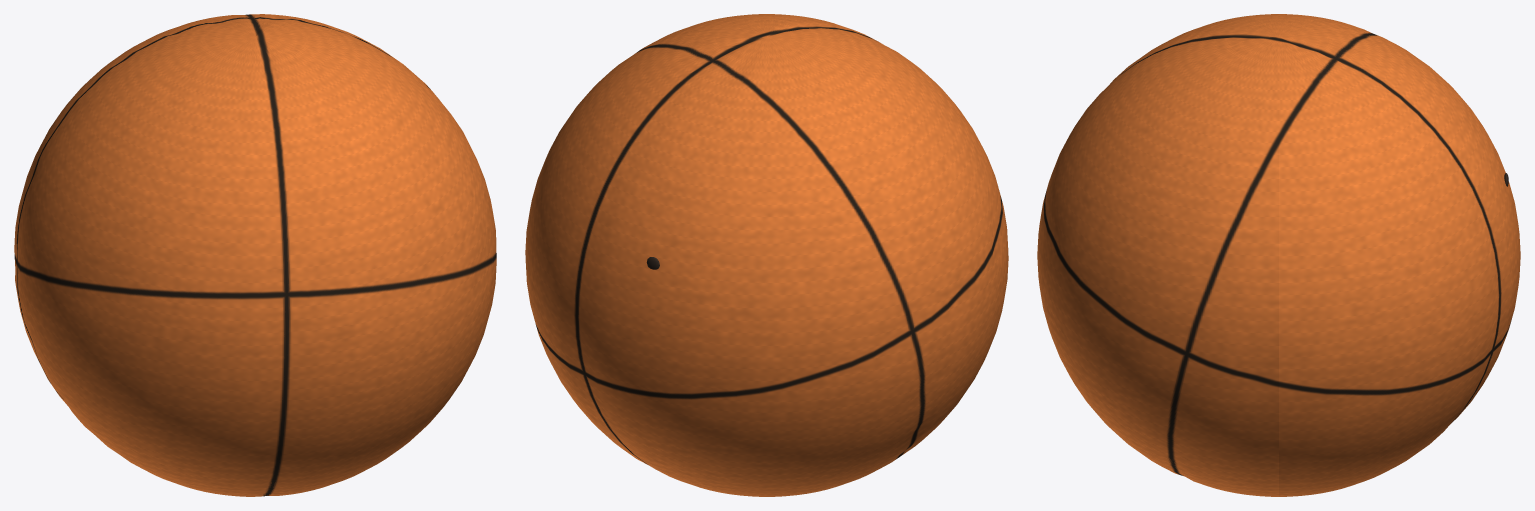
The model's file is hoop_ball.glb.
3 renders of one model, left to right at view 1: azimuth 30°, elevation 25°; view 2: azimuth 150°, elevation 25°; view 3: azimuth 270°, elevation 25°, orthographic.
Visible parts, largest first — view 1: Ball; view 2: Ball; view 3: Ball.
Boxes of the visible parts, bbox=[...] form: Ball: bbox=[14, 14, 496, 496]; Ball: bbox=[525, 14, 1008, 496]; Ball: bbox=[1037, 14, 1520, 496].
Bounding box in the file's own units: 0.24 × 0.2394 × 0.24.
2 materials, 2 textured.
